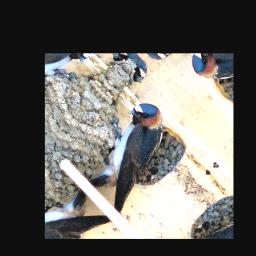Swallow: (73, 95, 198, 216)
